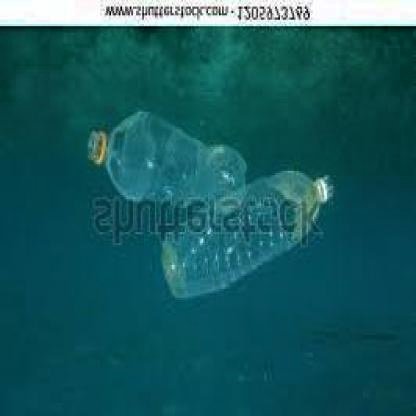pbottle: (144, 156, 339, 304), (83, 107, 250, 204)
